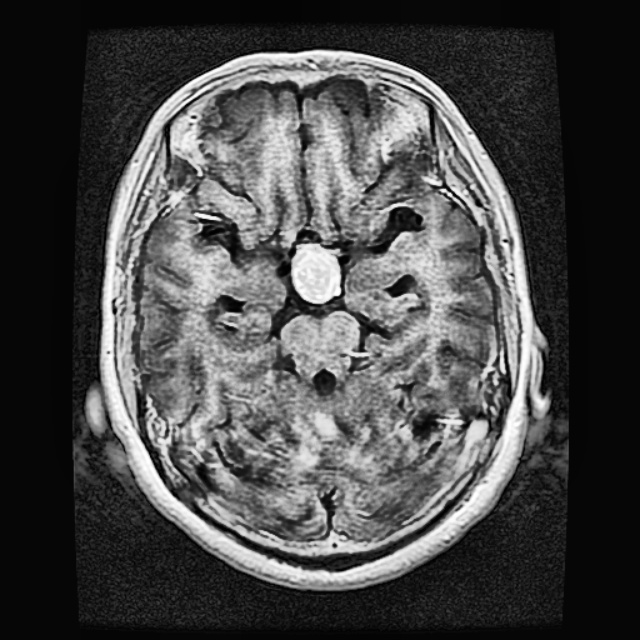Pituitary: (295, 243, 340, 300)
